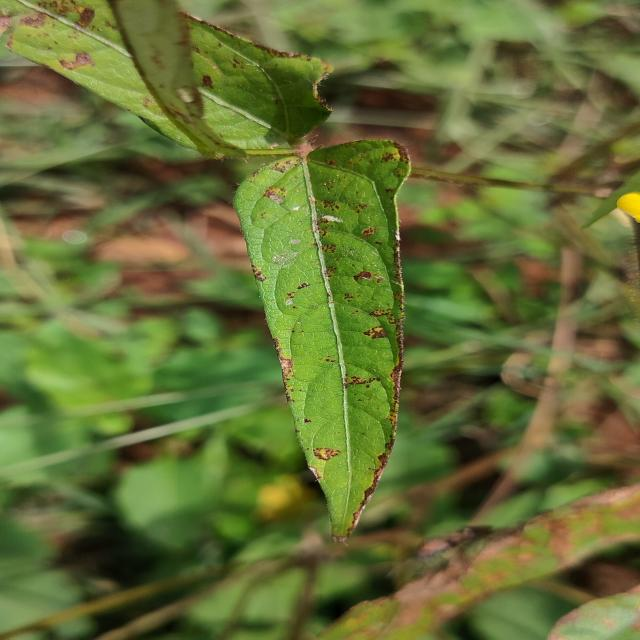Black gram_leaf spot: (234, 140, 410, 540), (0, 0, 309, 158), (106, 0, 340, 158)
